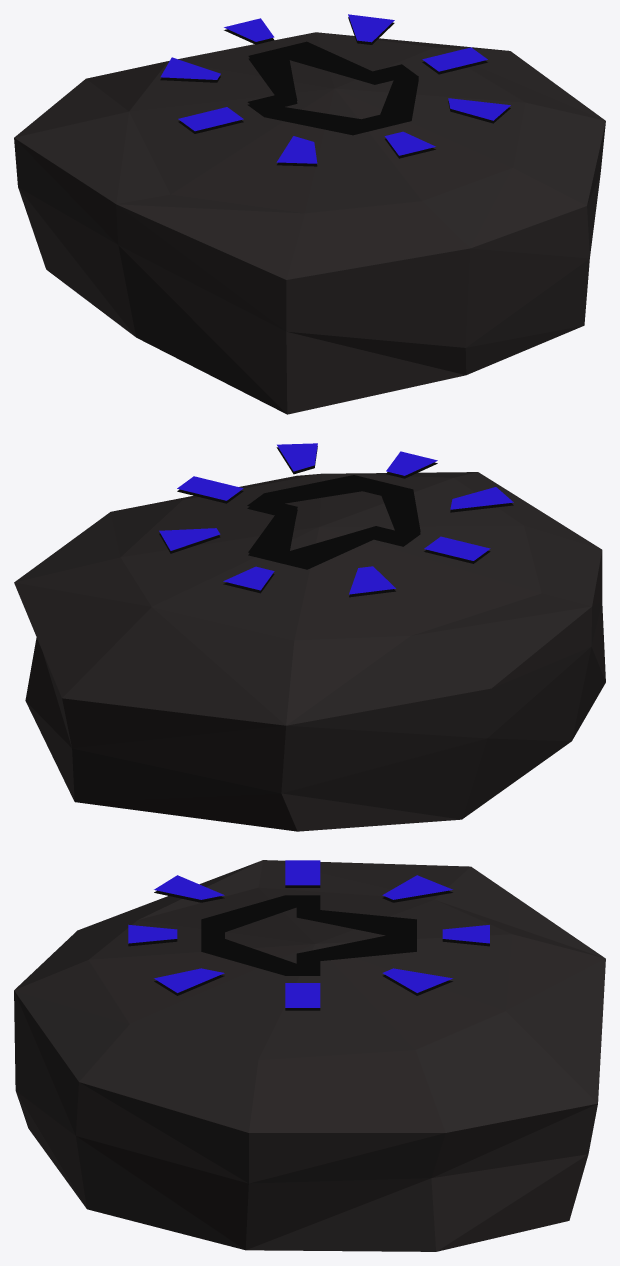
The model's file is obj_altar_7_0.obj.
3 views of the same model, one above another, from view 1: azimuth 30°, elevation 25°; view 2: azimuth 150°, elevation 25°; view 3: azimuth 270°, elevation 25° (orthographic). The views are drawn at different scales.
Bounding box in the file's own units: 2.84 × 1.21 × 2.91.
